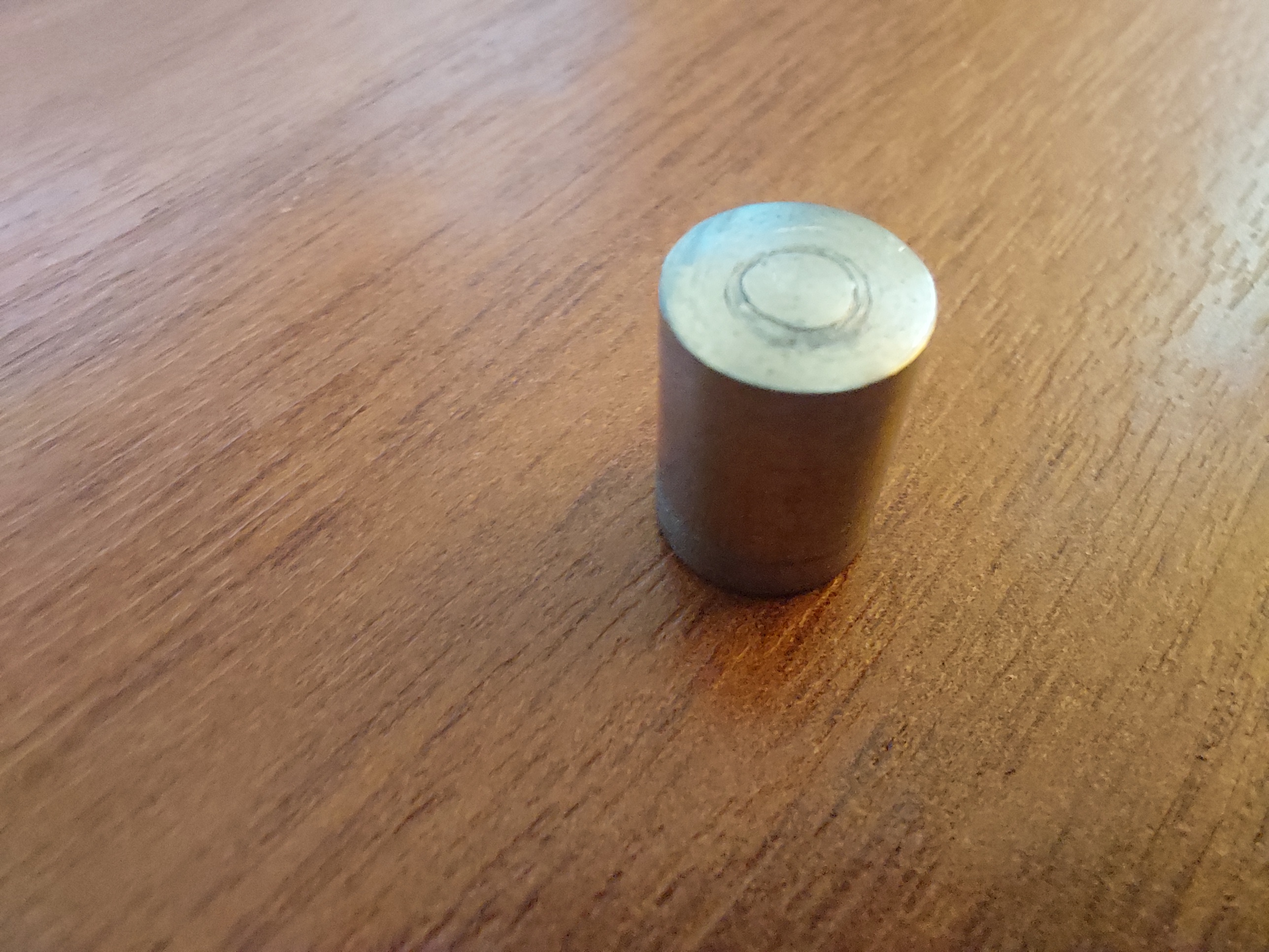tablet: (658, 199, 915, 625)
